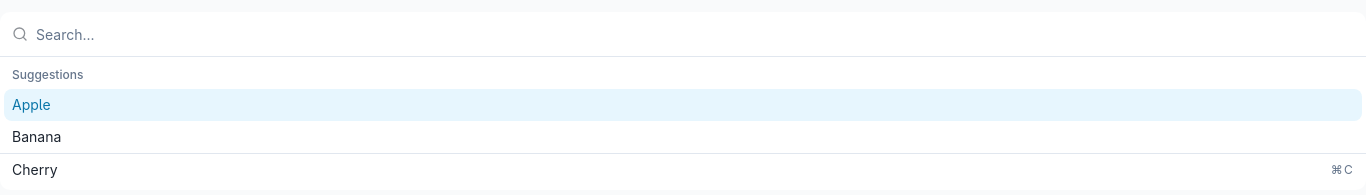
Test: ui: command › renders a command palette that filters items
The image size is (1366, 195).
Expected: the option "Apple" is shown, [4,89,1362,121]
Expected: the text "⌘C" is shown, [1331,162,1354,178]
In the dropdown with placeholder "Search...": (695, 34) [36,12,1354,56], type "ban"
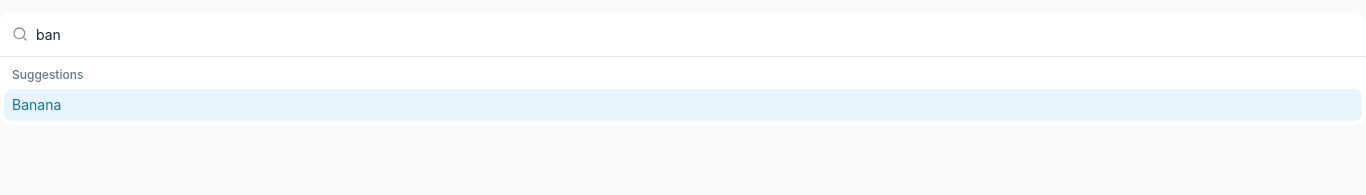
Expected: the option "Banana" is shown, [4,89,1362,121]
Expected: the option "Apple" is gone
